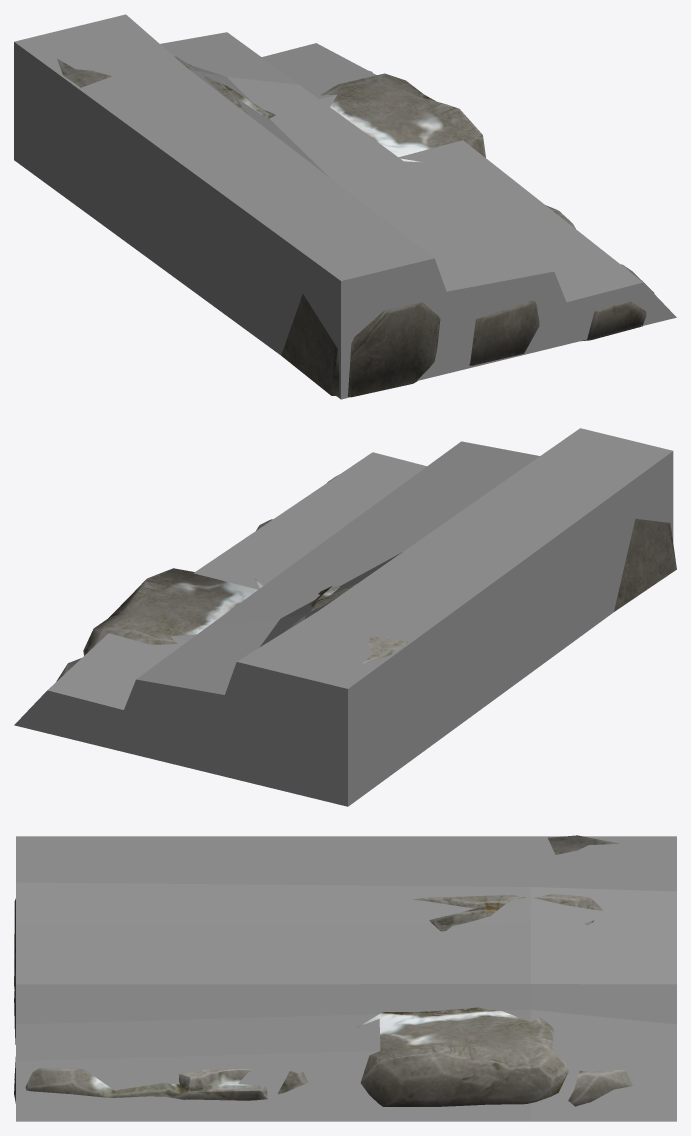
File: Scene_Rock_TianShan_SuiShiTi_3.FBX
3 views of the same model, one above another, from view 1: azimuth 30°, elevation 25°; view 2: azimuth 150°, elevation 25°; view 3: azimuth 270°, elevation 25° (orthographic).
Visible parts, largest first — view 1: Scene_Rock_TianShan_SuiShiTi_3_Xzm, Scene_Rock_TianShan_SuiShiTi_3; view 2: Scene_Rock_TianShan_SuiShiTi_3_Xzm, Scene_Rock_TianShan_SuiShiTi_3; view 3: Scene_Rock_TianShan_SuiShiTi_3_Xzm, Scene_Rock_TianShan_SuiShiTi_3.
Boxes of the visible parts, x1,y1,x2,y2 form: Scene_Rock_TianShan_SuiShiTi_3_Xzm: (14, 14, 676, 399); Scene_Rock_TianShan_SuiShiTi_3: (57, 56, 654, 397); Scene_Rock_TianShan_SuiShiTi_3_Xzm: (14, 428, 673, 806); Scene_Rock_TianShan_SuiShiTi_3: (56, 475, 676, 681); Scene_Rock_TianShan_SuiShiTi_3_Xzm: (16, 836, 676, 1121); Scene_Rock_TianShan_SuiShiTi_3: (14, 835, 632, 1106).
Bounding box in the file's own units: 216 × 75.18 × 358.
